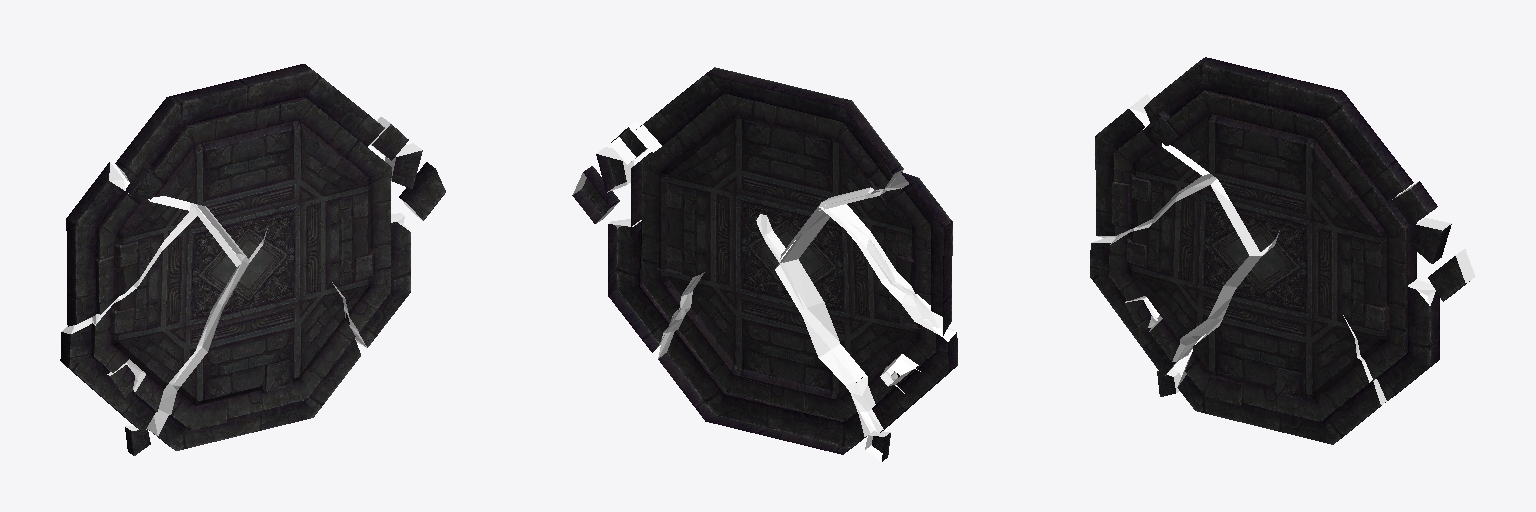
3 views of the same model, side by side, from view 1: azimuth 30°, elevation 25°; view 2: azimuth 150°, elevation 25°; view 3: azimuth 330°, elevation 25° (orthographic).
Parts seen in each view (by area): view 1: huodong_fuben_652_pingtai02_pingai_po; view 2: huodong_fuben_652_pingtai02_pingai_po; view 3: huodong_fuben_652_pingtai02_pingai_po.
Boxes of the visible parts, x1=… form: huodong_fuben_652_pingtai02_pingai_po: x1=60, y1=64, x2=445, y2=455; huodong_fuben_652_pingtai02_pingai_po: x1=572, y1=67, x2=957, y2=461; huodong_fuben_652_pingtai02_pingai_po: x1=1090, y1=57, x2=1474, y2=444.
Bounding box in the file's own units: 1940 × 1710 × 134.
3 materials, 2 textured.